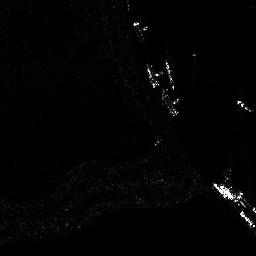ship: (237, 99, 251, 113)
